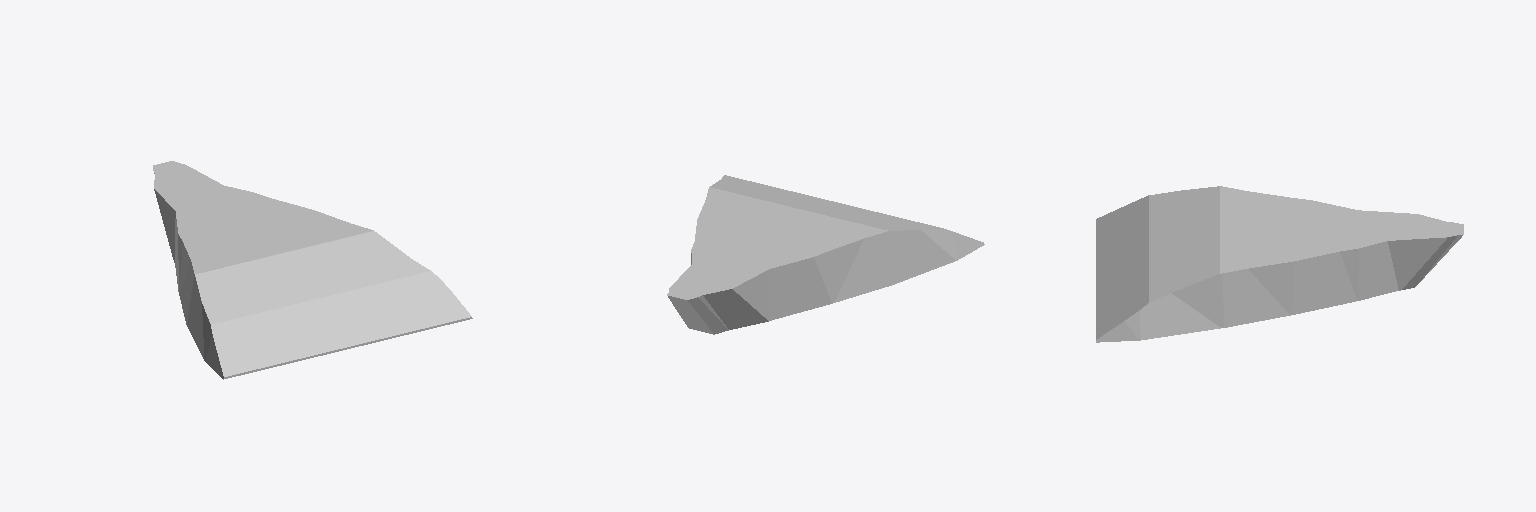
Rendered from CollisionTempShipHull4.obj.
3 renders of one model, left to right at view 1: azimuth 30°, elevation 25°; view 2: azimuth 150°, elevation 25°; view 3: azimuth 270°, elevation 25°, orthographic.
Visible parts, largest first — view 1: col.tempshiphull4Collision.000_Cube.006; view 2: col.tempshiphull4Collision.000_Cube.006; view 3: col.tempshiphull4Collision.000_Cube.006.
Boxes of the visible parts, x1,y1,x2,y2 form: col.tempshiphull4Collision.000_Cube.006: [153, 161, 472, 379]; col.tempshiphull4Collision.000_Cube.006: [667, 175, 984, 334]; col.tempshiphull4Collision.000_Cube.006: [1096, 186, 1463, 342].
Bounding box in the file's own units: 3.76 × 0.7441 × 4.81.